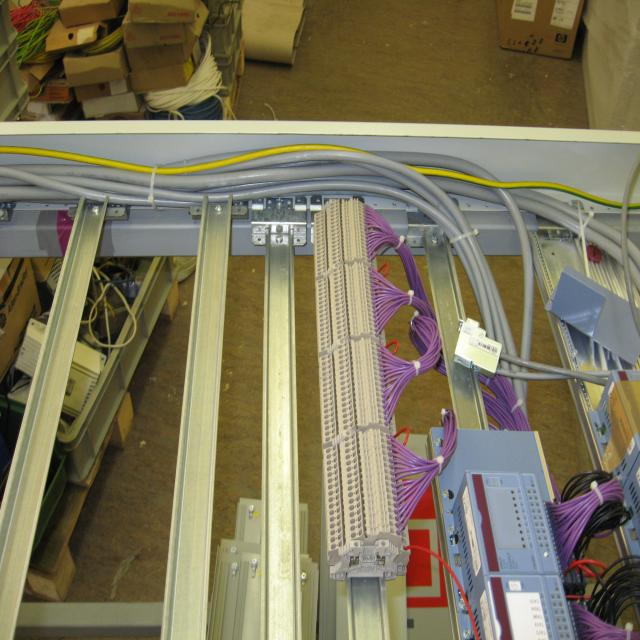Klemmenleiste: (323, 428, 402, 550), (319, 337, 389, 444), (316, 262, 380, 354), (315, 198, 378, 278)
SPS_System_Steuerungskomponente: (468, 472, 561, 575), (485, 576, 579, 640)
